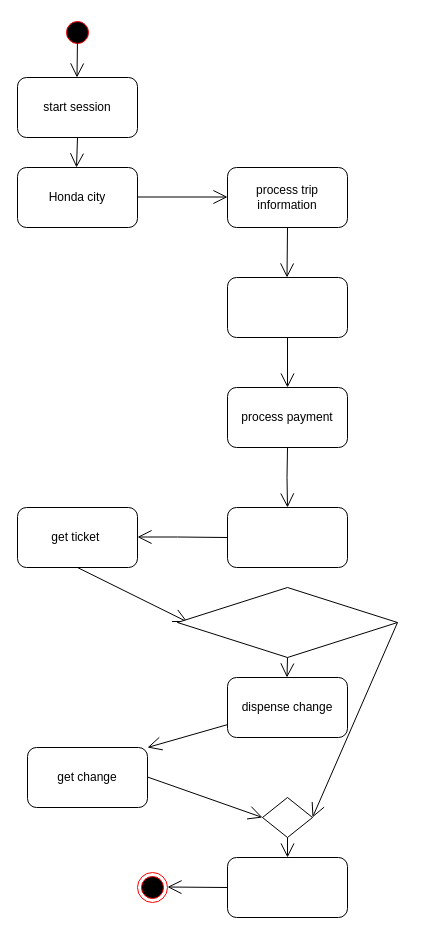
Image size: 429x935. Some labels were removed from this diagram. The centre of each missing label's shape, as x and y in pixels:
dispense ticket: (287,537)
paid with cash and with change: (287,622)
request payment: (287,307)
show thankyou!: (287,887)
